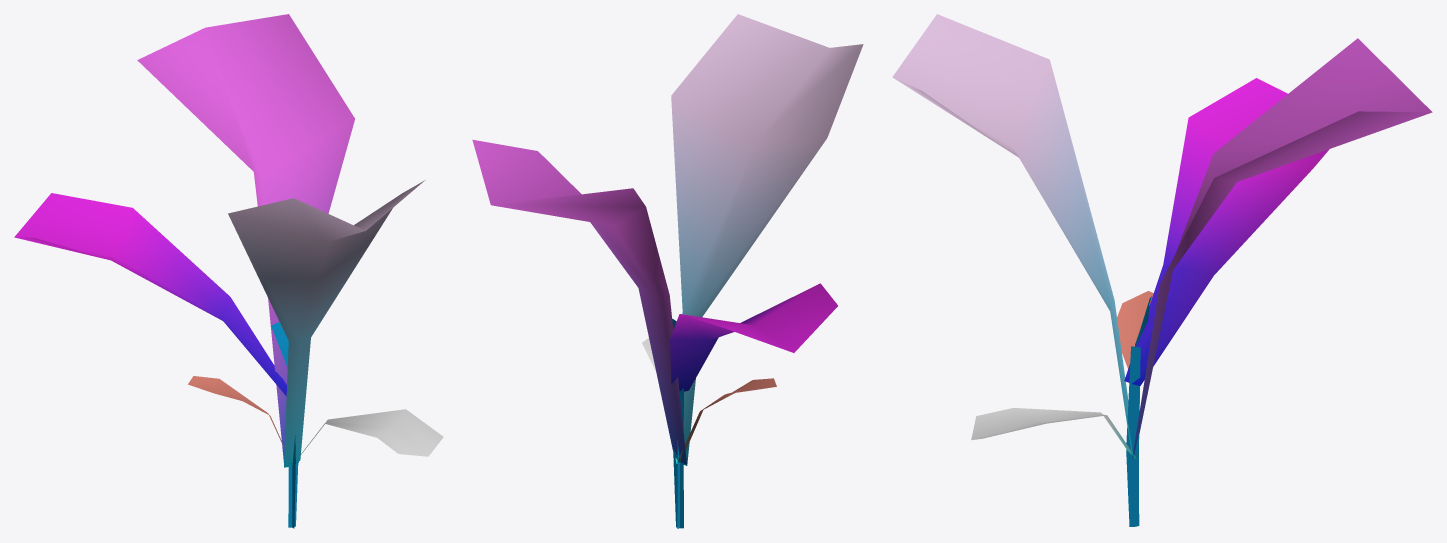
File: Curbside_Weeds_ujzjfexja_Mid_ujzjfexja_VarA_LOD0.fbx
The picture shows the model from 3 angles, left to right: view 1: azimuth 30°, elevation 25°; view 2: azimuth 150°, elevation 25°; view 3: azimuth 270°, elevation 25°; orthographic projection. The views are drawn at different scales.
Visible parts, largest first — view 1: _rsl0_VarA_LOD1; view 2: _rsl0_VarA_LOD1; view 3: _rsl0_VarA_LOD1.
Part boxes in pixels (left/top/right/bottom): _rsl0_VarA_LOD1: left=14, top=14, right=443, bottom=528; _rsl0_VarA_LOD1: left=472, top=14, right=863, bottom=528; _rsl0_VarA_LOD1: left=892, top=14, right=1432, bottom=526.
Bounding box in the file's own units: 5.73 × 7.54 × 7.88.
